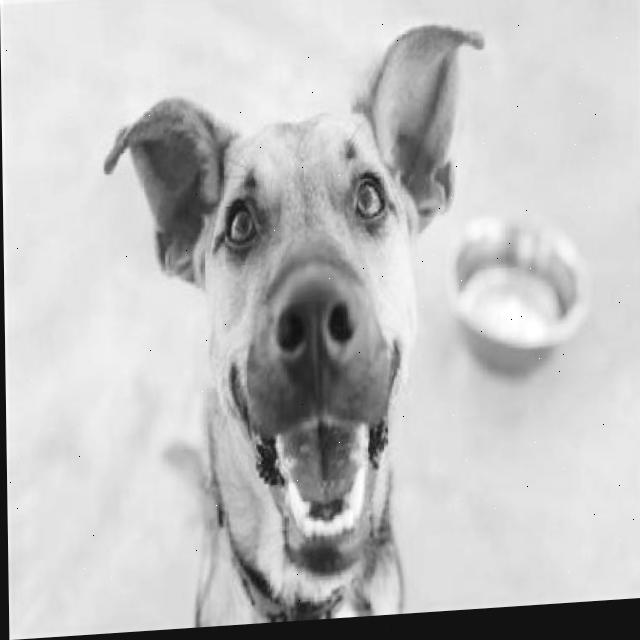Dog: (117, 4, 485, 631)
